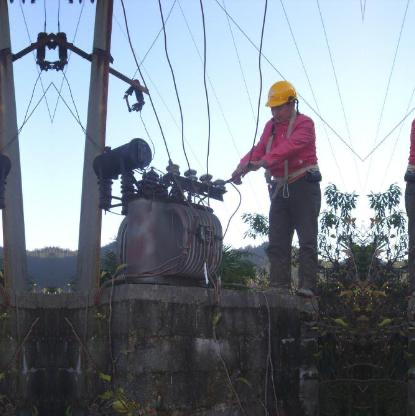Safety Helmet: (259, 73, 310, 129)
